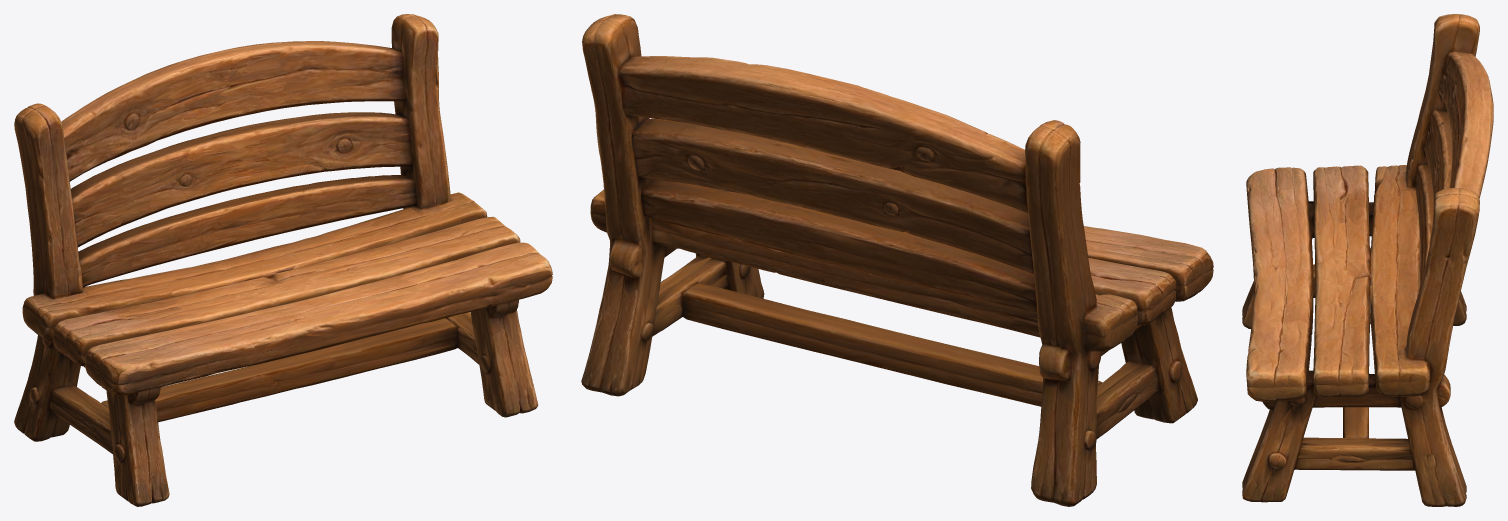
Rendered from bench.glb.
The picture shows the model from 3 angles, left to right: view 1: azimuth 30°, elevation 25°; view 2: azimuth 150°, elevation 25°; view 3: azimuth 270°, elevation 25°; orthographic projection. The views are drawn at different scales.
Parts seen in each view (by area): view 1: tripo_node_dd4f52e8-84ca-49da-90f6-fd6789bfa8e5; view 2: tripo_node_dd4f52e8-84ca-49da-90f6-fd6789bfa8e5; view 3: tripo_node_dd4f52e8-84ca-49da-90f6-fd6789bfa8e5.
Part boxes in pixels (x1=…): tripo_node_dd4f52e8-84ca-49da-90f6-fd6789bfa8e5: x1=14, y1=14, x2=552, y2=506; tripo_node_dd4f52e8-84ca-49da-90f6-fd6789bfa8e5: x1=581, y1=14, x2=1213, y2=506; tripo_node_dd4f52e8-84ca-49da-90f6-fd6789bfa8e5: x1=1242, y1=14, x2=1493, y2=506.
Size of the model in its own units: 1.6 by 1.09 by 0.814.
Materials: 1 (1 with a texture image).
